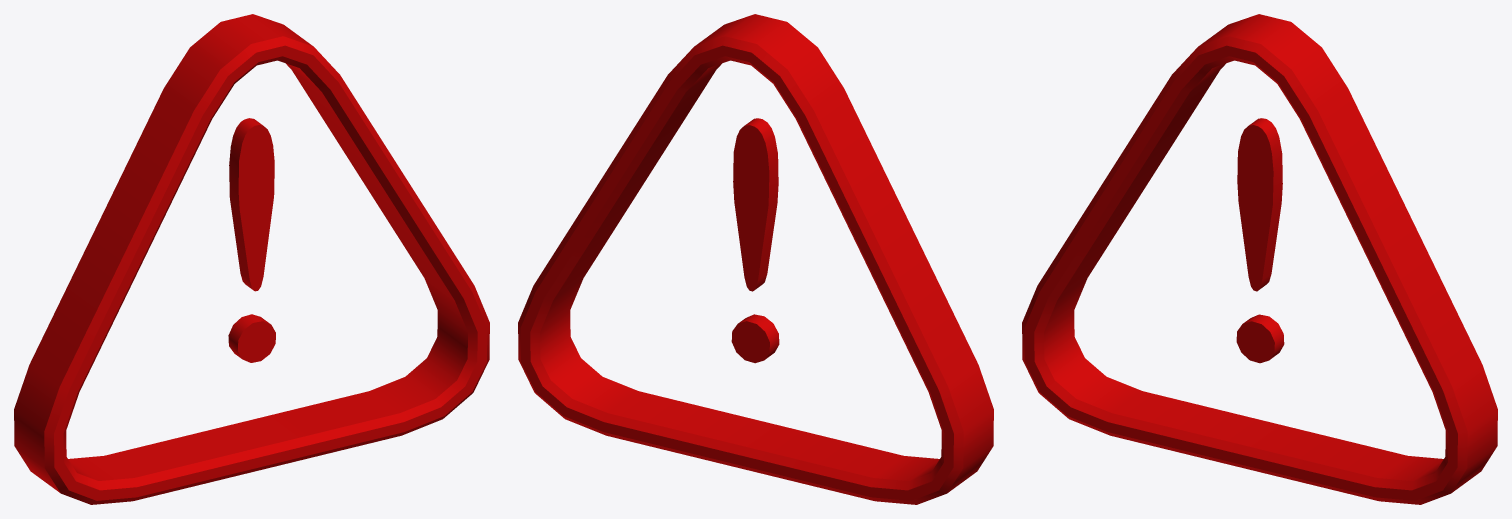
Rendered from alert.fbx.
3 renders of one model, left to right at view 1: azimuth 30°, elevation 25°; view 2: azimuth 150°, elevation 25°; view 3: azimuth 330°, elevation 25°, orthographic.
Parts seen in each view (by area): view 1: Sign; view 2: Sign; view 3: Sign.
Part boxes in pixels (x1,y1,x2,y2): Sign: [14, 14, 489, 504]; Sign: [518, 14, 993, 504]; Sign: [1022, 14, 1497, 504].
Bounding box in the file's own units: 30 × 4.36 × 27.56.
